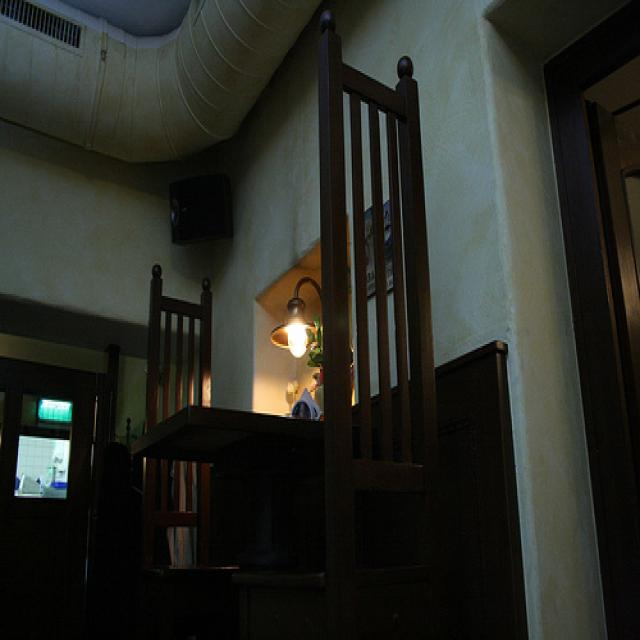Table: (136, 386, 383, 603)
chair: (306, 2, 468, 640), (122, 256, 220, 570)
